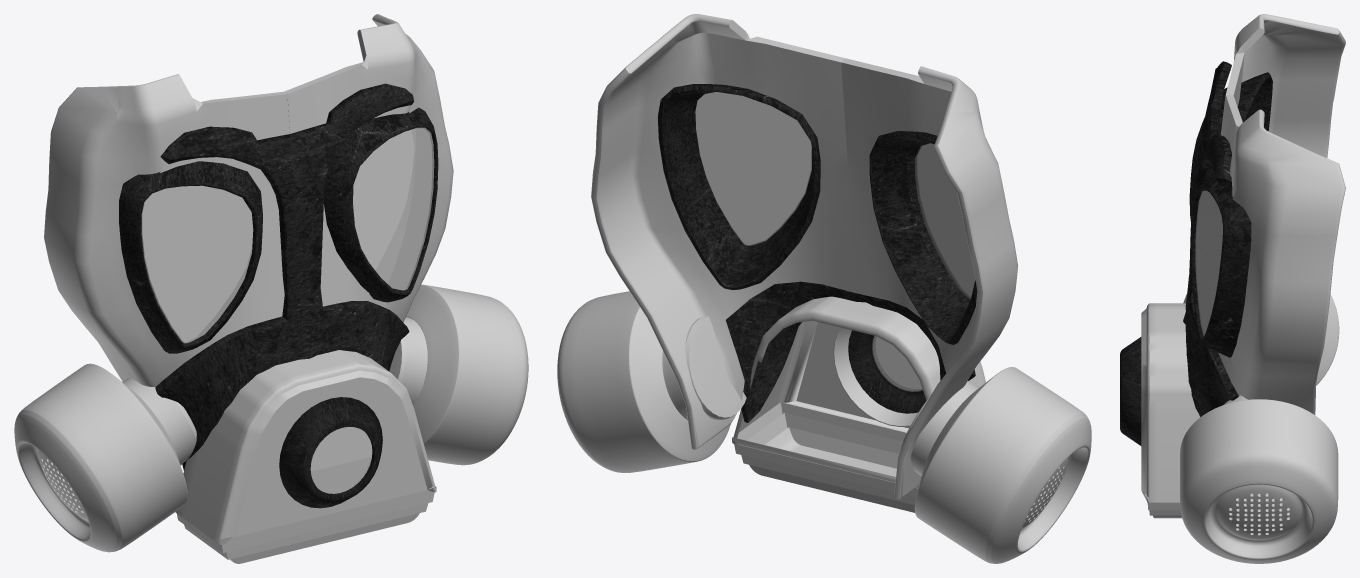
Rendered from GasMask.fbx.
3 views of the same model, side by side, from view 1: azimuth 30°, elevation 25°; view 2: azimuth 150°, elevation 25°; view 3: azimuth 270°, elevation 25° (orthographic). The views are drawn at different scales.
Visible parts, largest first — view 1: Skeliton.002, Ventillater.002, Cube.003, Lcylinder.002, REyeLense.001, REyeLense.003, Rcylinder.002, REyeLense.002, Cylinder.002, Cylinder.001, Cylinder.003; view 2: Skeliton.002, Ventillater.002, Lcylinder.002, REyeLense.002, Rcylinder.002, REyeLense.003, REyeLense.001, Cube.003, Cylinder.002, Cylinder.003, Cylinder.001; view 3: Skeliton.002, Rcylinder.002, Ventillater.002, REyeLense.002, Cube.003, REyeLense.001, REyeLense.003, Cylinder.002, Lcylinder.002.
Part boxes in pixels (x1=…): Skeliton.002: x1=44, y1=14, x2=453, y2=465; Ventillater.002: x1=175, y1=350, x2=436, y2=563; Cube.003: x1=155, y1=83, x2=413, y2=470; Lcylinder.002: x1=14, y1=363, x2=196, y2=552; REyeLense.001: x1=141, y1=127, x2=434, y2=343; REyeLense.003: x1=143, y1=129, x2=431, y2=342; Rcylinder.002: x1=389, y1=284, x2=528, y2=465; REyeLense.002: x1=119, y1=107, x2=438, y2=353; Cylinder.002: x1=279, y1=397, x2=382, y2=508; Cylinder.001: x1=310, y1=427, x2=372, y2=493; Cylinder.003: x1=311, y1=427, x2=371, y2=493; Skeliton.002: x1=591, y1=14, x2=1018, y2=499; Ventillater.002: x1=732, y1=296, x2=985, y2=512; Lcylinder.002: x1=899, y1=367, x2=1091, y2=563; REyeLense.002: x1=657, y1=84, x2=977, y2=344; Rcylinder.002: x1=557, y1=291, x2=746, y2=472; REyeLense.003: x1=695, y1=92, x2=975, y2=299; REyeLense.001: x1=696, y1=92, x2=974, y2=297; Cube.003: x1=726, y1=281, x2=975, y2=422; Cylinder.002: x1=848, y1=330, x2=926, y2=413; Cylinder.003: x1=872, y1=335, x2=922, y2=391; Cylinder.001: x1=874, y1=336, x2=921, y2=390; Skeliton.002: x1=1218, y1=14, x2=1345, y2=414; Rcylinder.002: x1=1180, y1=395, x2=1338, y2=563; Ventillater.002: x1=1141, y1=303, x2=1200, y2=518; REyeLense.002: x1=1189, y1=72, x2=1272, y2=357; Cube.003: x1=1183, y1=61, x2=1238, y2=416; REyeLense.001: x1=1195, y1=190, x2=1222, y2=336; REyeLense.003: x1=1197, y1=191, x2=1222, y2=334; Cylinder.002: x1=1120, y1=337, x2=1141, y2=445; Lcylinder.002: x1=1183, y1=293, x2=1339, y2=385.
Size of the model in its own units: 57.26 by 51.63 by 25.56.
